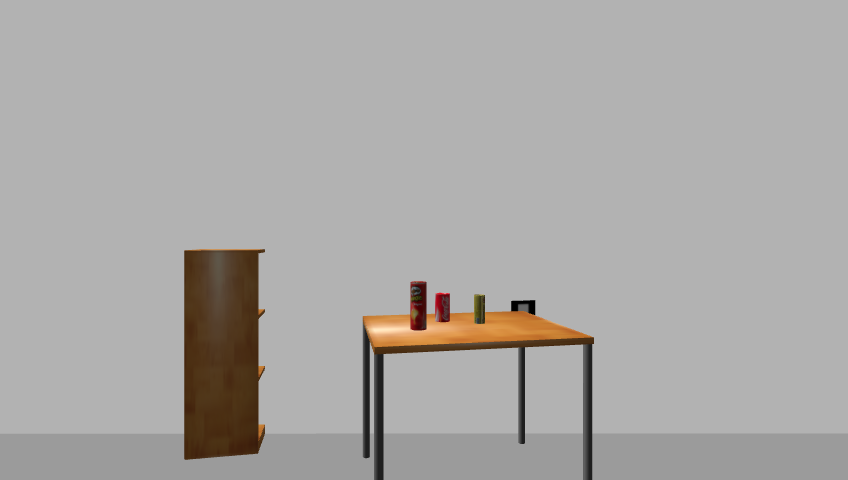aruco marker: (509, 300, 539, 320)
biscuits pack: (472, 293, 487, 326)
bookshelf: (179, 247, 269, 462)
coke can: (436, 292, 451, 324)
dinner table: (356, 310, 603, 480)
pringles can: (409, 280, 428, 332)
